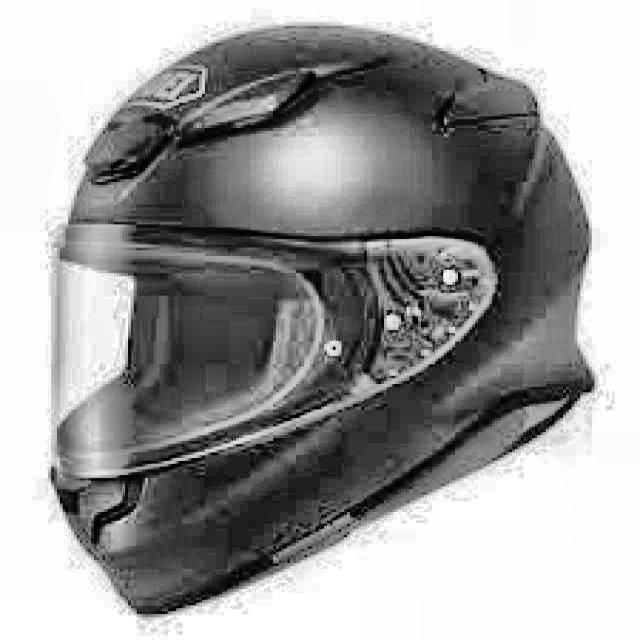Helmet: (41, 15, 592, 620)
